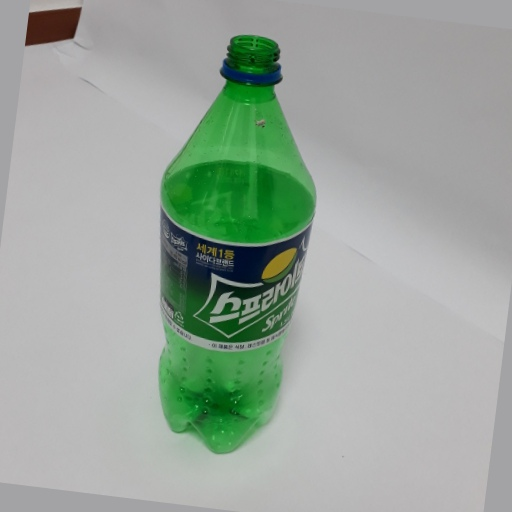Plastic_0: (148, 32, 320, 457)
